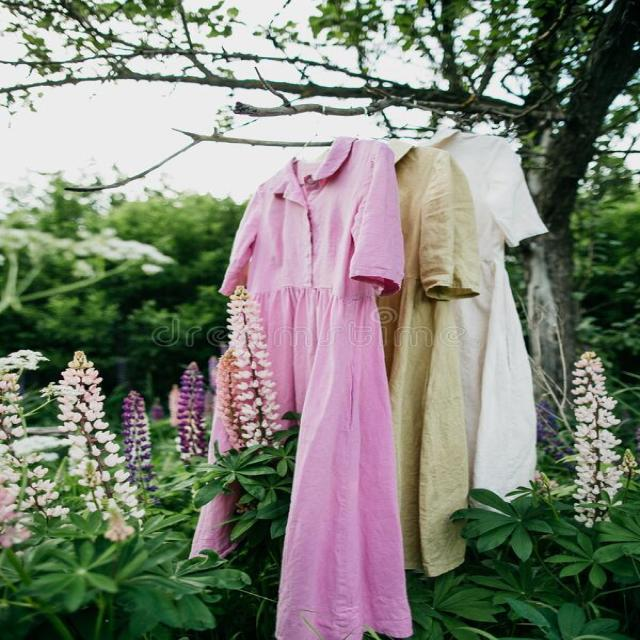clothes: (228, 138, 574, 614)
